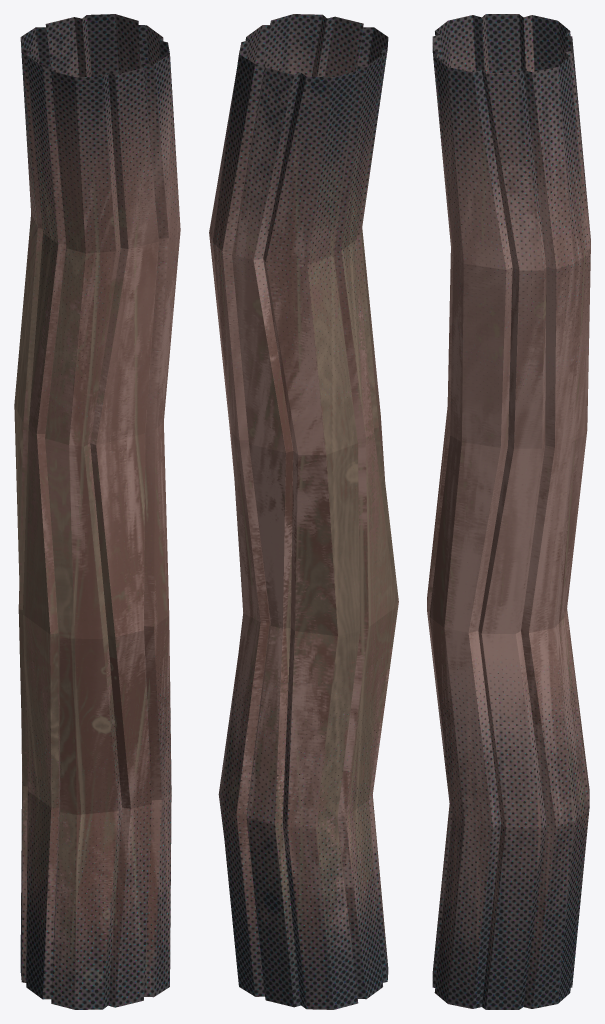
The model's file is Wood_beam_big.obj.
The picture shows the model from 3 angles, left to right: view 1: azimuth 30°, elevation 25°; view 2: azimuth 150°, elevation 25°; view 3: azimuth 270°, elevation 25°; orthographic projection.
Parts seen in each view (by area): view 1: Cube; view 2: Cube; view 3: Cube.
Part boxes in pixels (x1=…): Cube: x1=14, y1=14, x2=180, y2=1009; Cube: x1=209, y1=14, x2=398, y2=1009; Cube: x1=427, y1=14, x2=590, y2=1009.
Bounding box in the file's own units: 0.5986 × 3.7 × 0.5864.
